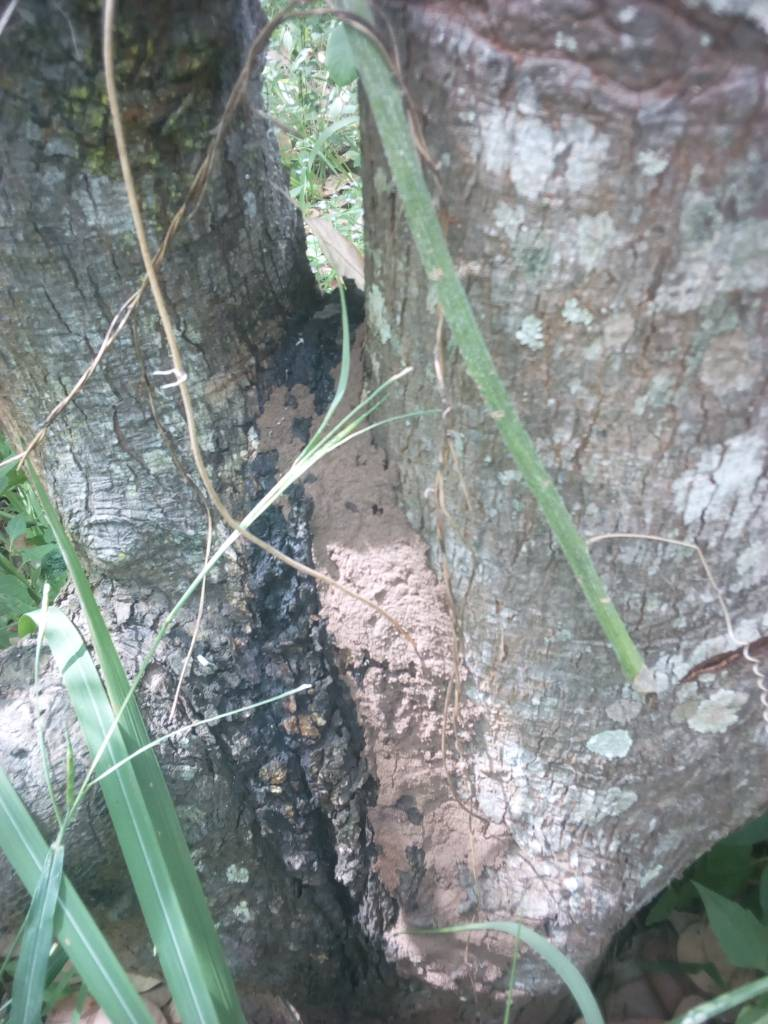Termites: (258, 380, 499, 957)
